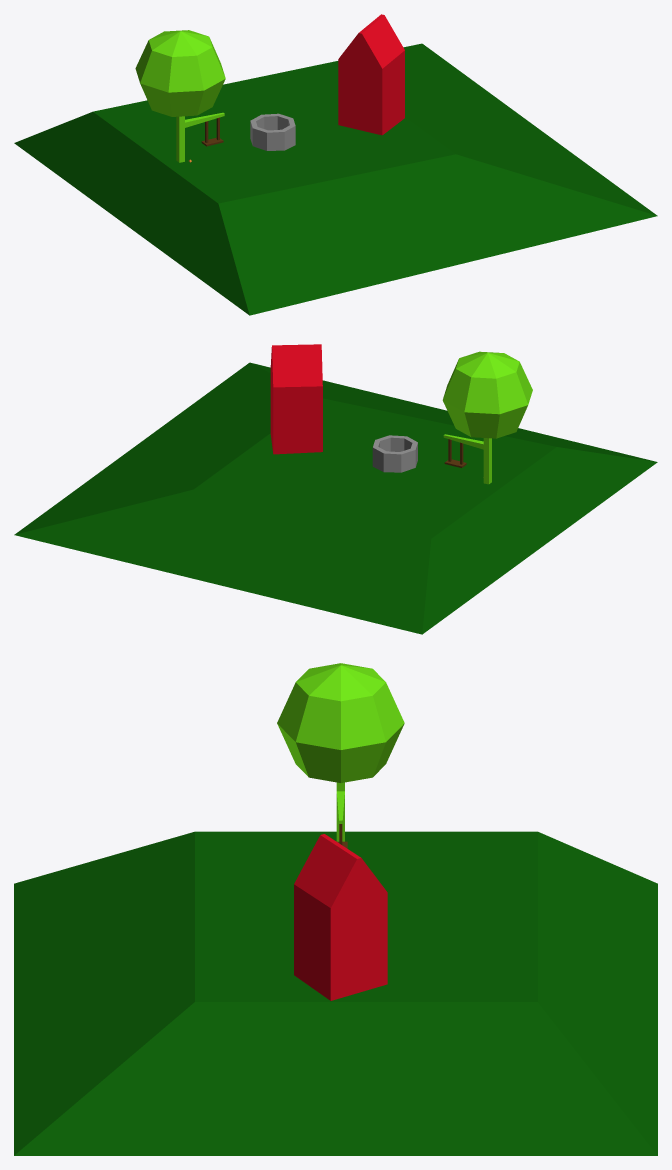
The picture shows the model from 3 angles, top to bottom: view 1: azimuth 30°, elevation 25°; view 2: azimuth 150°, elevation 25°; view 3: azimuth 270°, elevation 25°; orthographic projection. The views are drawn at different scales.
Parts seen in each view (by area): view 1: Island, Tree, House, Well; view 2: Island, Tree, House, Well; view 3: Island, House, Tree.
Boxes of the visible parts, x1,y1,x2,y2 form: Island: (14,43,657,315); Tree: (135,30,225,162); House: (338,14,404,135); Well: (250,113,295,150); Island: (14,362,657,634); Tree: (442,351,532,484); House: (270,344,322,454); Well: (372,435,417,472); Island: (14,831,657,1155); House: (294,834,387,1000); Tree: (277,663,404,841).
Size of what is drawn, in the model's own units: 20.16 by 8.71 by 20.16.
